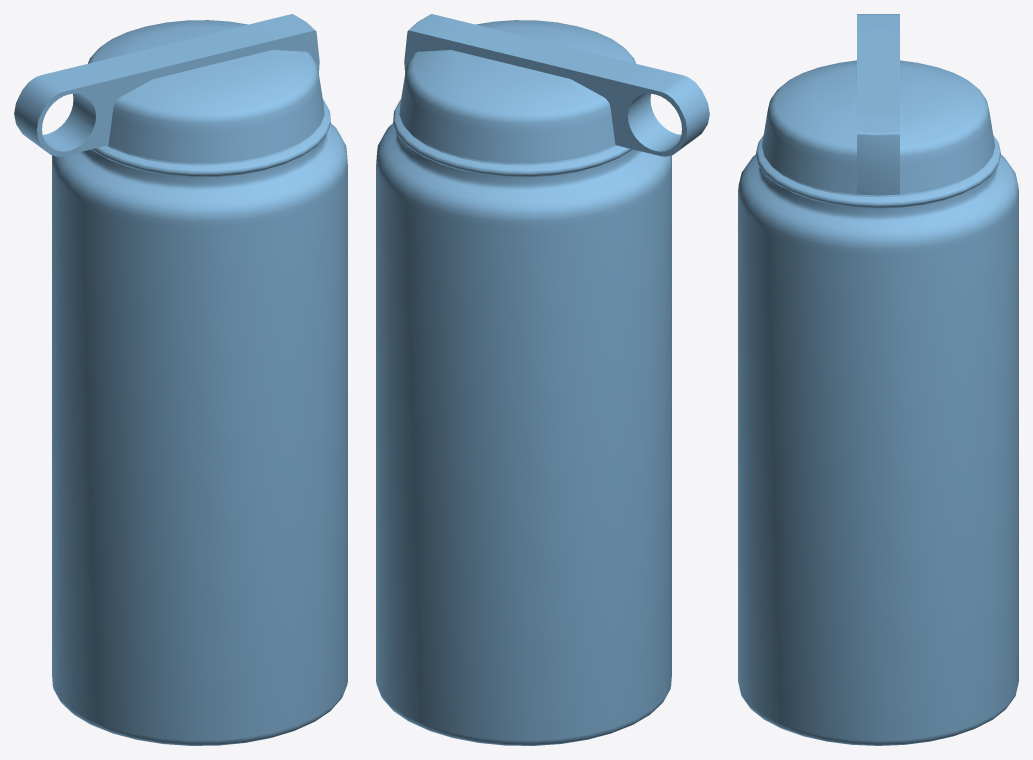
File: WaterBottle.fbx
3 views of the same model, side by side, from view 1: azimuth 30°, elevation 25°; view 2: azimuth 150°, elevation 25°; view 3: azimuth 270°, elevation 25° (orthographic). The views are drawn at different scales.
Visible parts, largest first — view 1: WaterBottleMerged; view 2: WaterBottleMerged; view 3: WaterBottleMerged.
Part boxes in pixels (left/top/right/bottom): WaterBottleMerged: left=14, top=14, right=347, bottom=745; WaterBottleMerged: left=376, top=14, right=709, bottom=745; WaterBottleMerged: left=738, top=14, right=1018, bottom=745.
Size of what is drawn, in the model's own units: 9.06 by 18.26 by 7.68.
